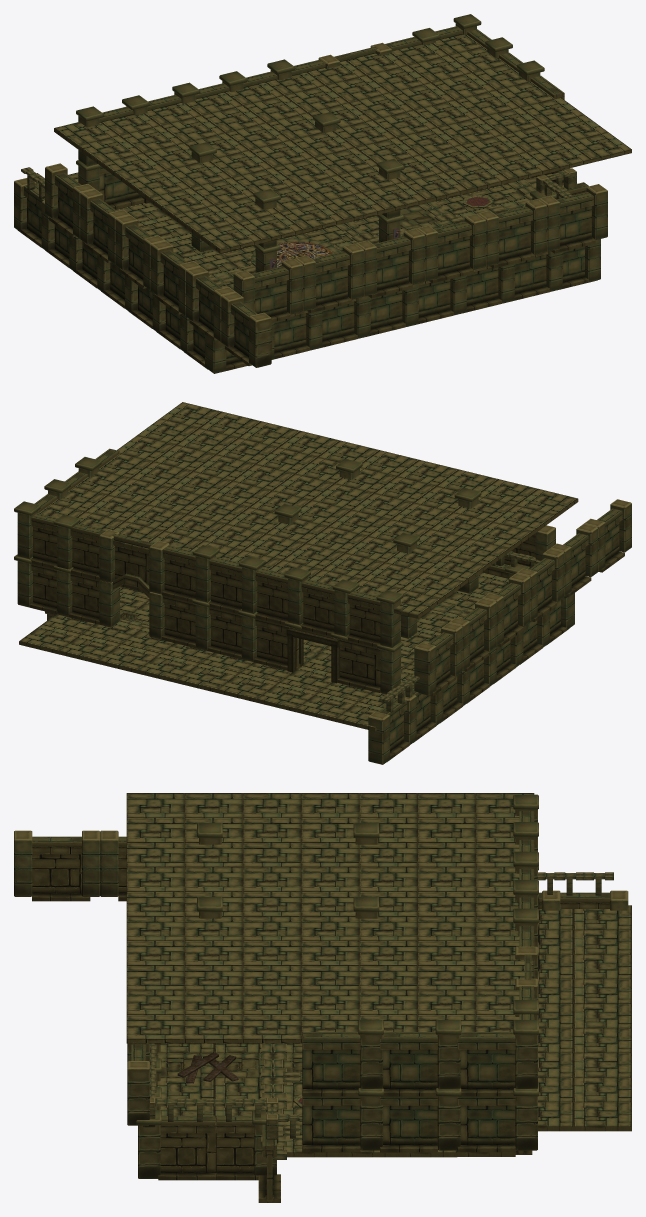
File: dungeon.fbx
The picture shows the model from 3 angles, top to bottom: view 1: azimuth 30°, elevation 25°; view 2: azimuth 150°, elevation 25°; view 3: azimuth 270°, elevation 25°; orthographic projection. The views are drawn at different scales.
Visible parts, largest first — view 1: Cube.008; view 2: Cube.008; view 3: Cube.008.
Part boxes in pixels (box(x1,y1,x2,y2)): Cube.008: box(14, 14, 631, 373); Cube.008: box(14, 402, 631, 764); Cube.008: box(14, 793, 631, 1202).
Bounding box in the file's own units: 3173 × 964 × 3185.
